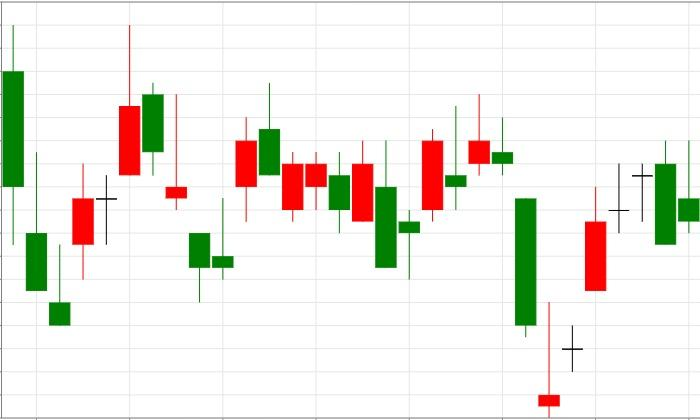shooting_star_fall: (399, 95, 490, 279)
